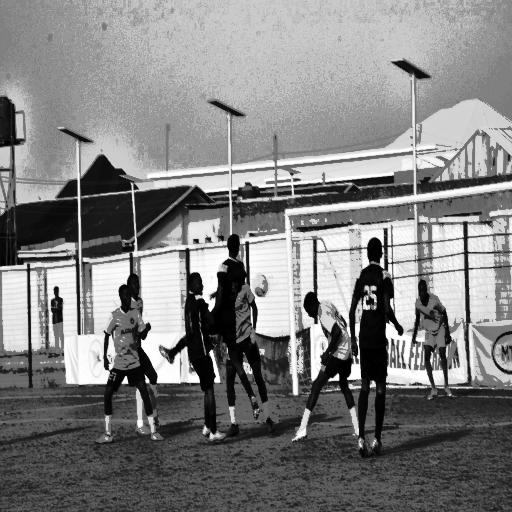ball: (253, 271, 271, 305)
keeper1: (408, 269, 464, 410)
team1: (94, 275, 165, 442), (223, 270, 280, 440), (295, 284, 354, 445)
team2: (350, 236, 396, 470), (182, 265, 230, 453), (206, 230, 242, 381)
